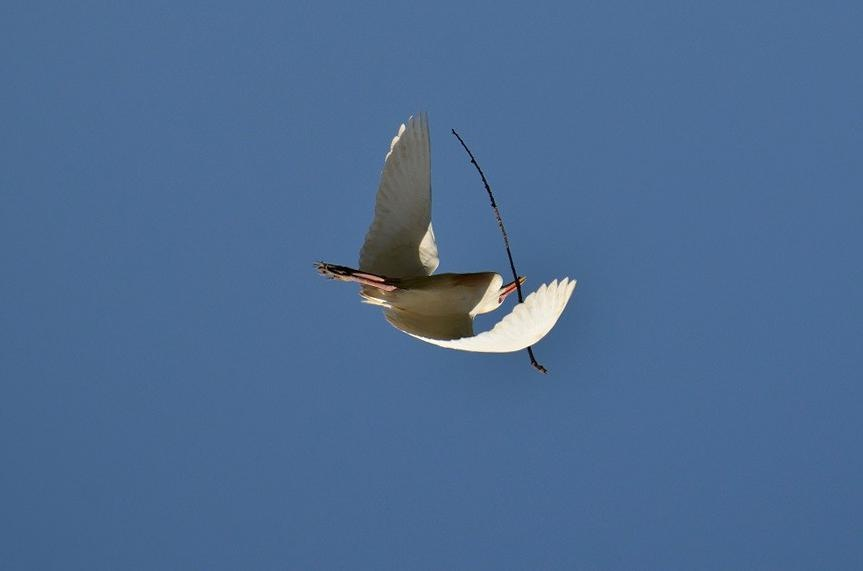egret: (334, 122, 582, 379)
